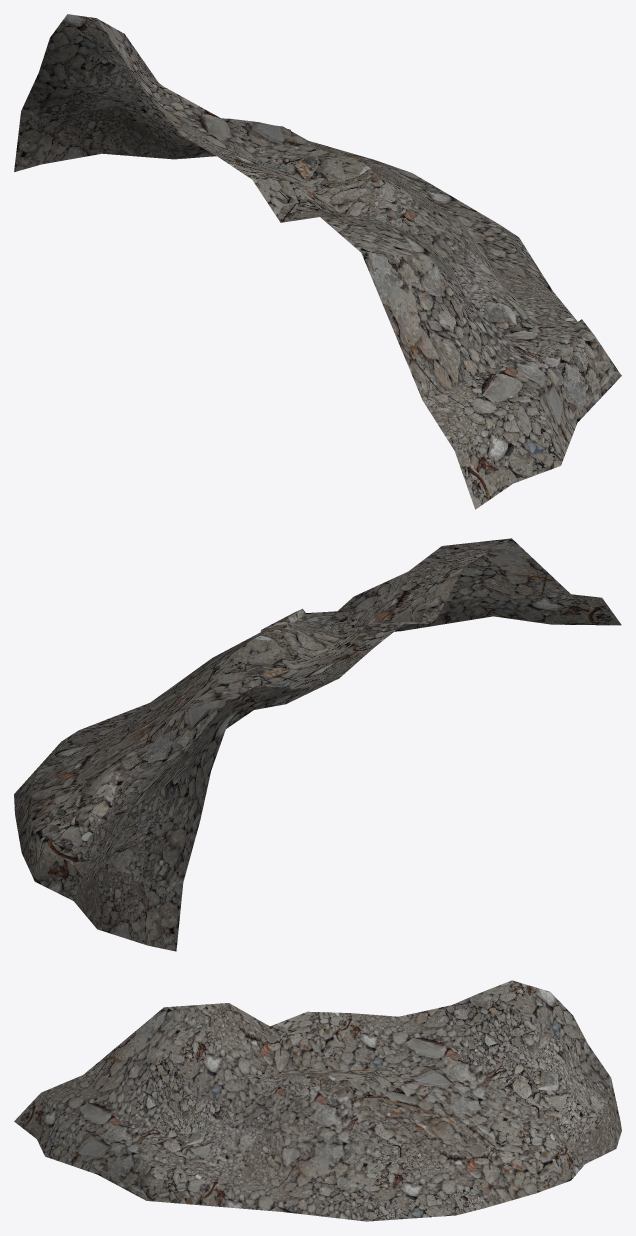
The model's file is RuinsBigpile.fbx.
The picture shows the model from 3 angles, top to bottom: view 1: azimuth 30°, elevation 25°; view 2: azimuth 150°, elevation 25°; view 3: azimuth 270°, elevation 25°; orthographic projection. The views are drawn at different scales.
Visible parts, largest first — view 1: mesh_0.2352; view 2: mesh_0.2352; view 3: mesh_0.2352.
Boxes of the visible parts, x1,y1,x2,y2 form: mesh_0.2352: (14, 14, 621, 509); mesh_0.2352: (14, 538, 621, 951); mesh_0.2352: (14, 980, 621, 1221).
Size of the model in its own units: 1.63 by 1.07 by 4.18.
